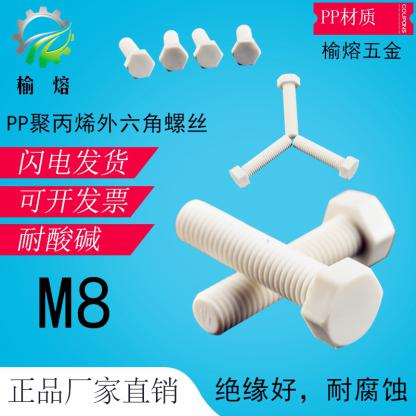FOD: (173, 196, 383, 349), (189, 188, 396, 338), (228, 134, 293, 190), (292, 133, 360, 180), (118, 36, 156, 82), (275, 73, 301, 136), (190, 27, 226, 70), (230, 23, 261, 67), (159, 30, 188, 74)
